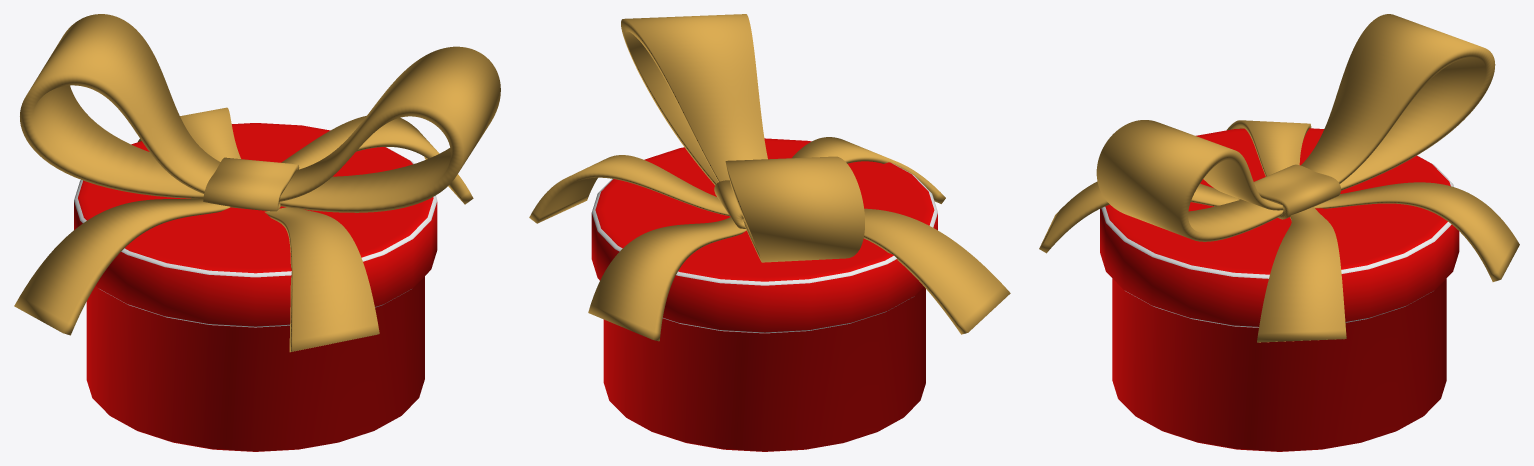
The model's file is GiftBoxRoundShort.fbx.
3 renders of one model, left to right at view 1: azimuth 30°, elevation 25°; view 2: azimuth 150°, elevation 25°; view 3: azimuth 270°, elevation 25°, orthographic. The views are drawn at different scales.
Visible parts, largest first — view 1: Cylinder.003, NurbsPath.023; view 2: Cylinder.003, NurbsPath.023; view 3: Cylinder.003, NurbsPath.023.
Boxes of the visible parts, bbox=[...] form: Cylinder.003: bbox=[74, 123, 437, 451]; NurbsPath.023: bbox=[14, 14, 500, 352]; Cylinder.003: bbox=[591, 138, 937, 451]; NurbsPath.023: bbox=[529, 14, 1010, 341]; Cylinder.003: bbox=[1100, 128, 1459, 451]; NurbsPath.023: bbox=[1039, 14, 1519, 342].
Size of the model in its own units: 301 by 207 by 288.
